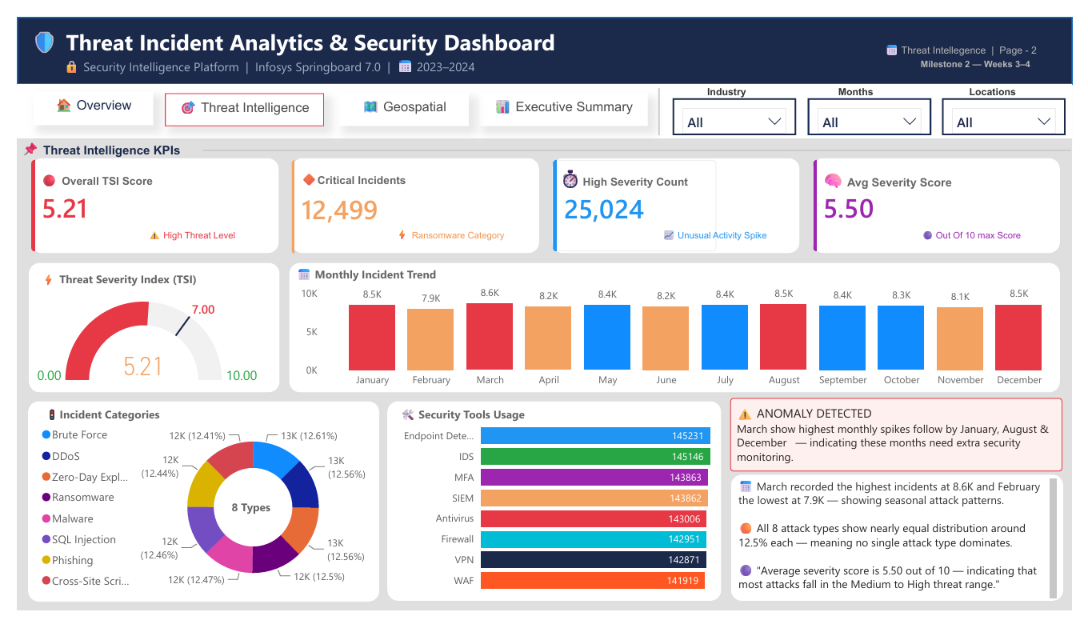

This screenshot's page, from the dashboard's own definition file:
{"tool":"powerbi","page":{"name":"Threat Intelligence","canvas":[1280,720],"ordinal":1},"visuals":[{"type":"shape","box":[332.5,171.2,300,115],"z":0},{"type":"cardVisual","fields":{"Data":["CountNonNull(fact_incident.incident_key)"]},"box":[316.2,156.2,231.2,147.5],"z":1000},{"type":"shape","box":[330,297.5,935,157.5],"z":2000},{"type":"shape","box":[13.8,297.5,303.8,157.5],"z":3000},{"type":"shape","box":[0,0,1280,81.2],"z":4000},{"type":"textbox","box":[10,6.2,690,55],"z":5000},{"type":"textbox","box":[51.2,43.8,681.2,37.5],"z":6000},{"type":"textbox","box":[1048.4,25.3,231.6,27.7],"z":7000},{"type":"textbox","box":[1090.6,41,152,27.7],"z":8000},{"type":"shape","box":[0,80.8,1280,66],"z":9000},{"type":"textbox","box":[18.8,90,146,41],"z":10000},{"type":"textbox","box":[178.6,91.7,193,39.8],"z":11000},{"type":"textbox","box":[389.7,91.7,158,39.8],"z":12000},{"type":"textbox","box":[559.8,91.7,205.1,39.8],"z":13000},{"type":"shape","box":[16.9,171.3,300.4,114.6],"z":14000},{"type":"shape","box":[648.8,171.2,300,115],"z":15000},{"type":"shape","box":[965,171.2,300,115],"z":16000},{"type":"cardVisual","fields":{"Data":["Avg(fact_incident.TSI_score)"]},"box":[0,156.2,232.5,145],"z":17000},{"type":"cardVisual","fields":{"Data":["CountNonNull(fact_incident.incident_key)"]},"box":[632.5,156.2,232.5,145],"z":18000},{"type":"cardVisual","fields":{"Data":["Avg(fact_incident.attack_severity)"]},"box":[948.8,156.2,232.5,145],"z":19000},{"type":"textbox","box":[23.8,180,177.5,42.5],"z":20000},{"type":"textbox","box":[338.8,181.2,198.8,40],"z":21000},{"type":"textbox","box":[651.2,175,185,43.8],"z":22000},{"type":"textbox","box":[971.2,177.5,185,43.8],"z":23000},{"type":"textbox","box":[0,143.6,273.9,37.4],"z":24000},{"type":"shape","box":[225,155,1053,12.5],"z":25000},{"type":"textbox","box":[153.8,248.8,147.5,33.8],"z":26000},{"type":"textbox","box":[453.8,248.8,147.5,33.8],"z":27000},{"type":"textbox","box":[778.2,248.5,147.2,33.8],"z":28000},{"type":"textbox","box":[1092.5,248.8,147.5,37.5],"z":29000},{"type":"gauge","fields":{"Y":["Avg(fact_incident.TSI_score)"]},"box":[13.8,326.2,287.5,128.8],"z":30000},{"type":"textbox","box":[23.8,303.8,266.2,42.5],"z":31000},{"type":"columnChart","fields":{"Category":["dim_time.timestamp.Variation.Date Hierarchy.Month"],"Y":["CountNonNull(fact_incident.incident_key)"]},"box":[338.8,310,938.8,147.5],"z":32000},{"type":"shape","box":[12.5,466.2,426.2,242.5],"z":33000},{"type":"textbox","box":[333.8,297.5,266.2,42.5],"z":34000},{"type":"donutChart","fields":{"Y":["CountNonNull(fact_incident.incident_key)"],"Category":["fact_incident.attack_type"]},"box":[23.8,475,405,238.8],"z":35000},{"type":"textbox","box":[255,580,77.5,28.8],"z":36000},{"type":"shape","box":[448.8,465.7,405.4,242.5],"z":37000},{"type":"textbox","box":[865,462.1,403,89],"z":38000},{"type":"clusteredBarChart","fields":{"Y":["Sum(dim_time.hour)"],"Category":["dim_response.security_tools_used"]},"box":[448.8,475,406.2,233.8],"z":39000},{"type":"textbox","box":[460,467.5,266.2,42.5],"z":40000},{"type":"textbox","box":[27.5,467.5,266.2,42.5],"z":41000},{"type":"slicer","fields":{"Values":["dim_time.month"]},"box":[958.5,97.7,150,45],"z":42000},{"type":"slicer","fields":{"Values":["dim_location.location"]},"box":[1122,97.7,150,45],"z":43000},{"type":"slicer","fields":{"Values":["dim_industry.industry"]},"box":[795,97.7,150,45],"z":44000},{"type":"shape","box":[771.2,86.2,15,56.2],"z":45000},{"type":"textbox","box":[832.4,74.8,79.6,29],"z":46000},{"type":"textbox","box":[991.1,74.8,79.6,29],"z":47000},{"type":"textbox","box":[1149.7,74.8,79.6,29],"z":48000},{"type":"shape","box":[866.2,555,403,153.2],"z":49000},{"type":"textbox","box":[869.8,555,396,159],"z":50000}]}

Visuals, with their boxes in screenshot pixels (x1, y1, x2, y2), scaled from the page's 1280x720 canvas onto the 1088x626 screenshot:
shape: 283:149:538:249
cardVisual - CountNonNull(fact_incident.incident_key): 269:136:465:264
shape: 280:259:1075:396
shape: 12:259:270:396
shape: 0:0:1087:71
textbox: 8:5:595:53
textbox: 44:38:623:71
textbox: 891:22:1087:46
textbox: 927:36:1056:60
shape: 0:70:1087:128
textbox: 16:78:140:114
textbox: 152:80:316:114
textbox: 331:80:466:114
textbox: 476:80:650:114
shape: 14:149:270:249
shape: 551:149:806:249
shape: 820:149:1075:249
cardVisual - Avg(fact_incident.TSI_score): 0:136:198:262
cardVisual - CountNonNull(fact_incident.incident_key): 538:136:735:262
cardVisual - Avg(fact_incident.attack_severity): 806:136:1004:262
textbox: 20:156:171:193
textbox: 288:158:457:192
textbox: 554:152:711:190
textbox: 826:154:983:192
textbox: 0:125:233:157
shape: 191:135:1086:146
textbox: 131:216:256:246
textbox: 386:216:511:246
textbox: 661:216:787:245
textbox: 929:216:1054:249
gauge - Avg(fact_incident.TSI_score): 12:284:256:396
textbox: 20:264:246:301
columnChart - dim_time.timestamp.Variation.Date Hierarchy.Month x CountNonNull(fact_incident.incident_key): 288:270:1086:398
shape: 11:405:373:616
textbox: 284:259:510:296
donutChart - CountNonNull(fact_incident.incident_key) x fact_incident.attack_type: 20:413:364:621
textbox: 217:504:283:529
shape: 381:405:726:616
textbox: 735:402:1078:479
clusteredBarChart - Sum(dim_time.hour) x dim_response.security_tools_used: 381:413:727:616
textbox: 391:406:617:443
textbox: 23:406:250:443
slicer - dim_time.month: 815:85:942:124
slicer - dim_location.location: 954:85:1081:124
slicer - dim_industry.industry: 676:85:803:124
shape: 656:75:668:124
textbox: 708:65:775:90
textbox: 842:65:910:90
textbox: 977:65:1045:90
shape: 736:483:1079:616
textbox: 739:483:1076:621
